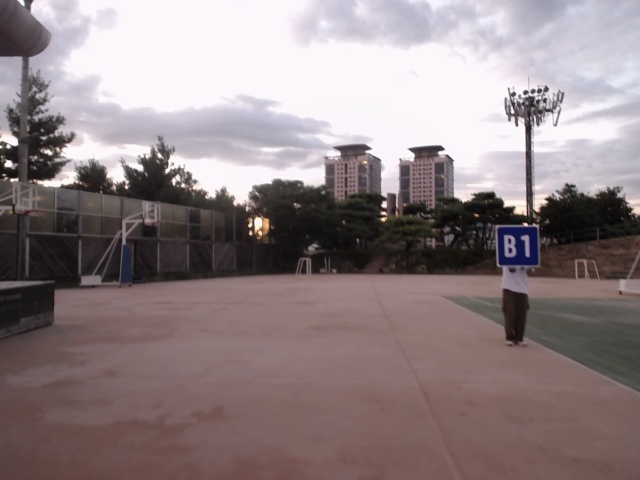delivery_b1: (497, 226, 540, 266)
